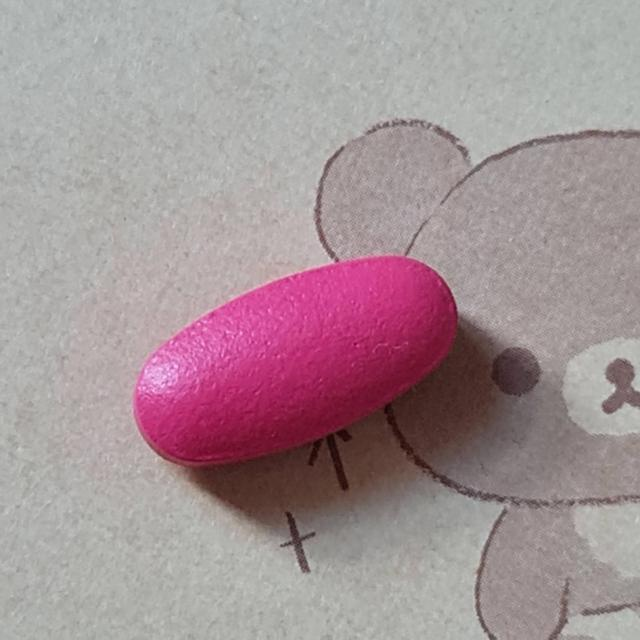pill: (136, 256, 456, 464)
